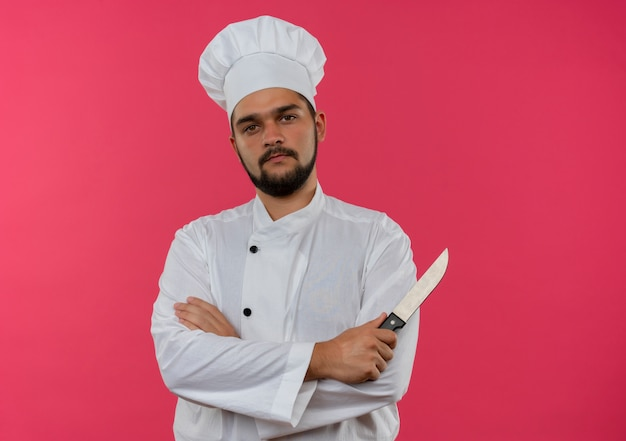knife: (378, 247, 451, 332)
